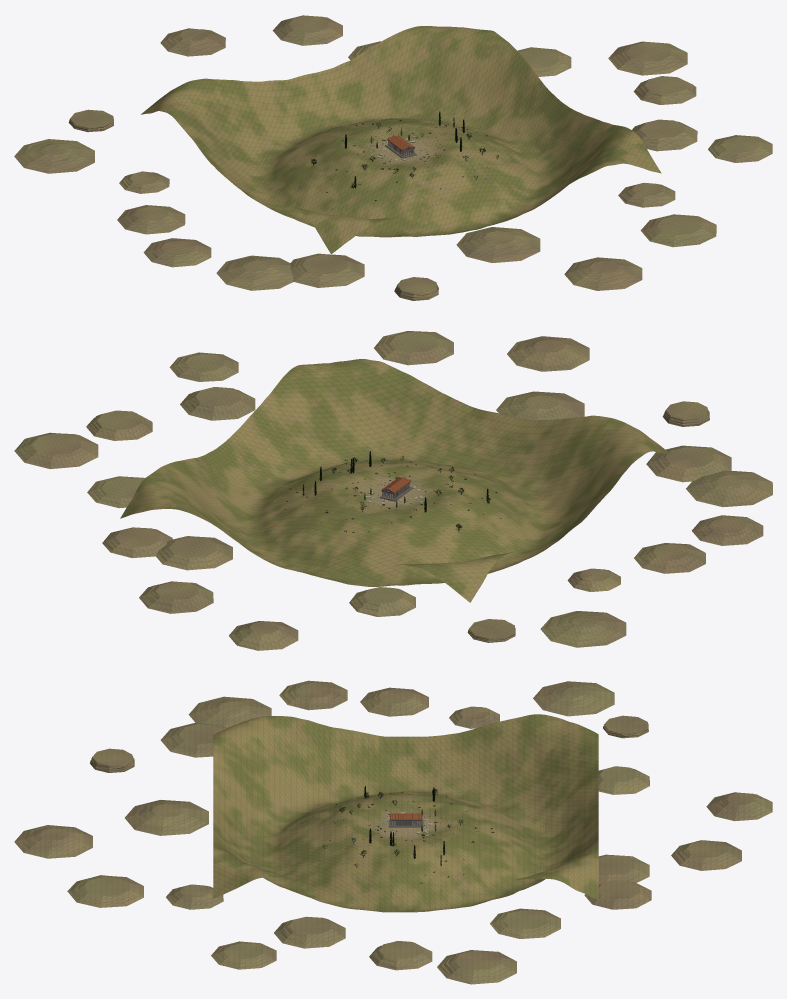
Rendered from assos-athena-tapinagi-baked.glb.
The picture shows the model from 3 angles, top to bottom: view 1: azimuth 30°, elevation 25°; view 2: azimuth 150°, elevation 25°; view 3: azimuth 270°, elevation 25°; orthographic projection. The views are drawn at different scales.
Parts seen in each view (by area): view 1: assos-athena-tapinagi-terrain, assos-athena-tapinagi-ground, assos-athena-tapinagi-flora, assos-athena-tapinagi-near; view 2: assos-athena-tapinagi-terrain, assos-athena-tapinagi-ground, assos-athena-tapinagi-flora, assos-athena-tapinagi-near; view 3: assos-athena-tapinagi-terrain, assos-athena-tapinagi-ground, assos-athena-tapinagi-flora, assos-athena-tapinagi-near.
Boxes of the visible parts, x1,y1,x2,y2 form: assos-athena-tapinagi-terrain: (141,26,661,254); assos-athena-tapinagi-ground: (14,15,772,300); assos-athena-tapinagi-flora: (295,111,511,214); assos-athena-tapinagi-near: (370,129,423,160); assos-athena-tapinagi-terrain: (120,359,671,602); assos-athena-tapinagi-ground: (14,331,772,650); assos-athena-tapinagi-flora: (274,451,519,560); assos-athena-tapinagi-near: (364,477,420,507); assos-athena-tapinagi-terrain: (213,714,598,912); assos-athena-tapinagi-ground: (14,680,772,984); assos-athena-tapinagi-flora: (303,786,515,891); assos-athena-tapinagi-near: (383,809,436,831).
Bounding box in the file's own units: 649 × 57.27 × 685.
Materials: 28 (21 with a texture image).
